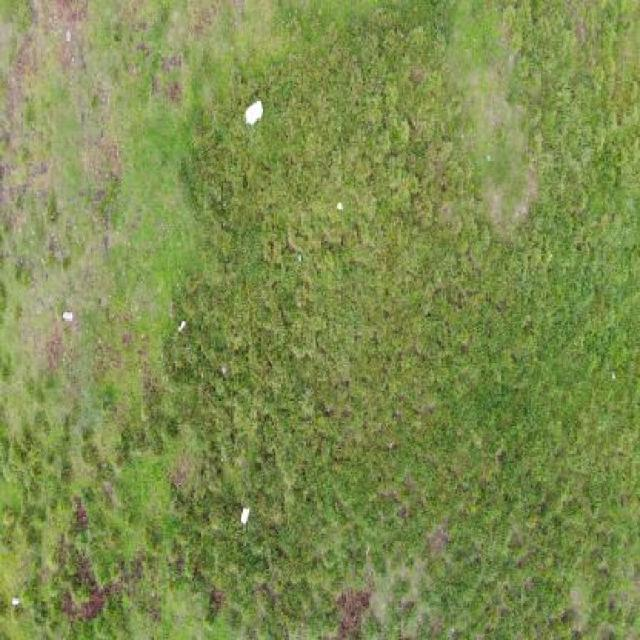Garbage: (246, 97, 264, 125), (240, 505, 251, 524), (177, 318, 187, 332), (296, 247, 303, 264), (62, 311, 73, 318), (336, 202, 344, 210), (12, 597, 20, 604)
